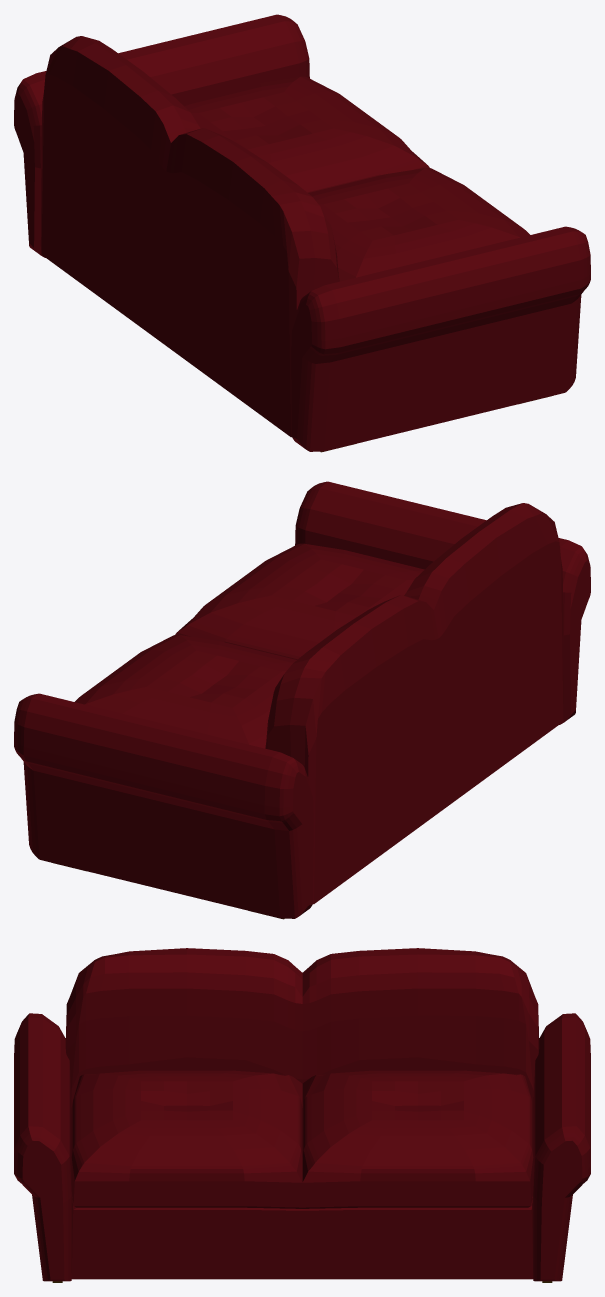
File: couch.fbx
3 renders of one model, top to bottom at view 1: azimuth 30°, elevation 25°; view 2: azimuth 150°, elevation 25°; view 3: azimuth 270°, elevation 25°, orthographic. The views are drawn at different scales.
Visible parts, largest first — view 1: Couch; view 2: Couch; view 3: Couch.
Part boxes in pixels (x1=…): Couch: x1=14, y1=14, x2=590, y2=452; Couch: x1=14, y1=481, x2=590, y2=919; Couch: x1=14, y1=948, x2=590, y2=1282.
Size of the model in its own units: 512 by 429 by 1000.
